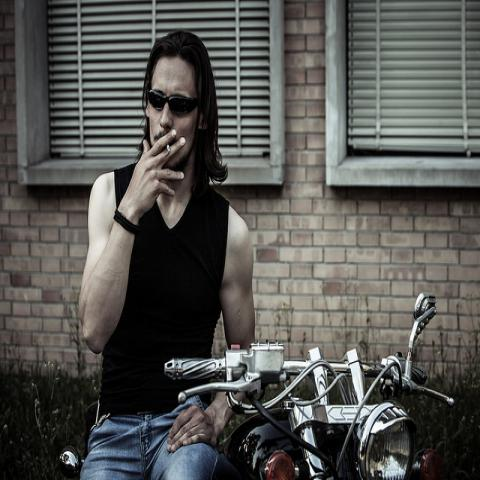motorcycle: (170, 290, 445, 470)
